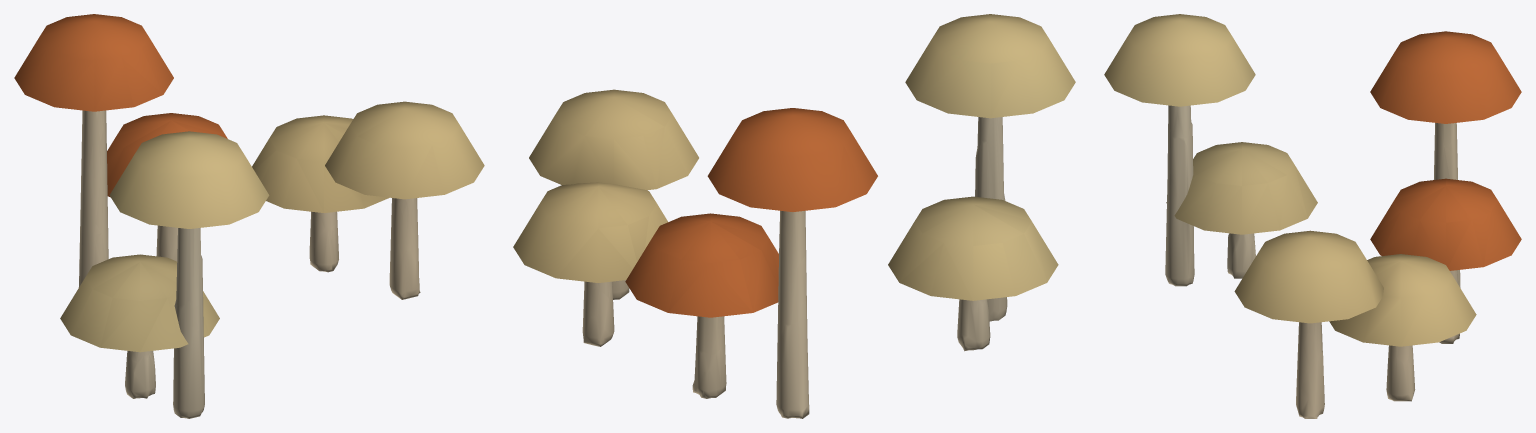
Rendered from mire_gc_toadstools.glb.
3 renders of one model, left to right at view 1: azimuth 30°, elevation 25°; view 2: azimuth 150°, elevation 25°; view 3: azimuth 270°, elevation 25°, orthographic. The views are drawn at different scales.
Visible parts, largest first — view 1: mire_gc_toadstools; view 2: mire_gc_toadstools; view 3: mire_gc_toadstools.
Part boxes in pixels (x1,y1,x2,y2): mire_gc_toadstools: [14, 14, 484, 418]; mire_gc_toadstools: [513, 14, 1075, 418]; mire_gc_toadstools: [1104, 14, 1521, 418].
Size of the model in its own units: 2.03 by 1.23 by 1.76.
